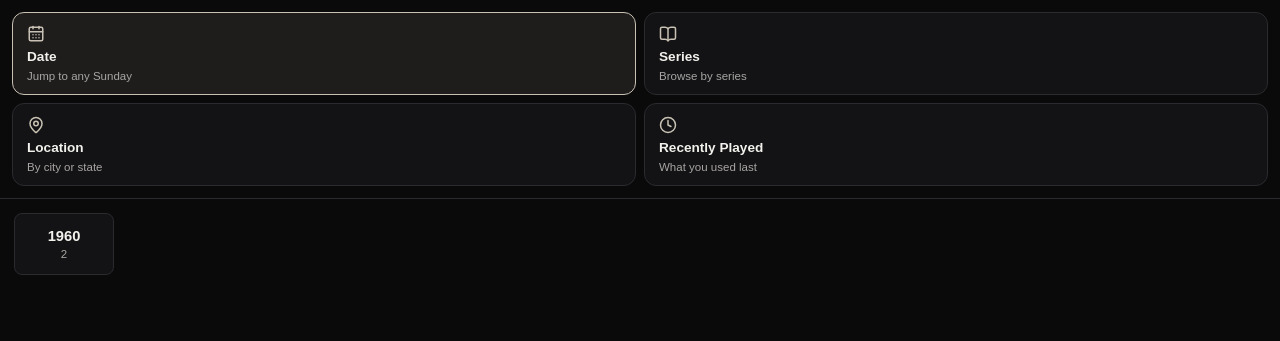
Test: BrowsePanel › drills into a series to show sermon list
Click the button "Series Browse by series" at (679, 56), box x1=644 y1=12 x2=1268 y2=95
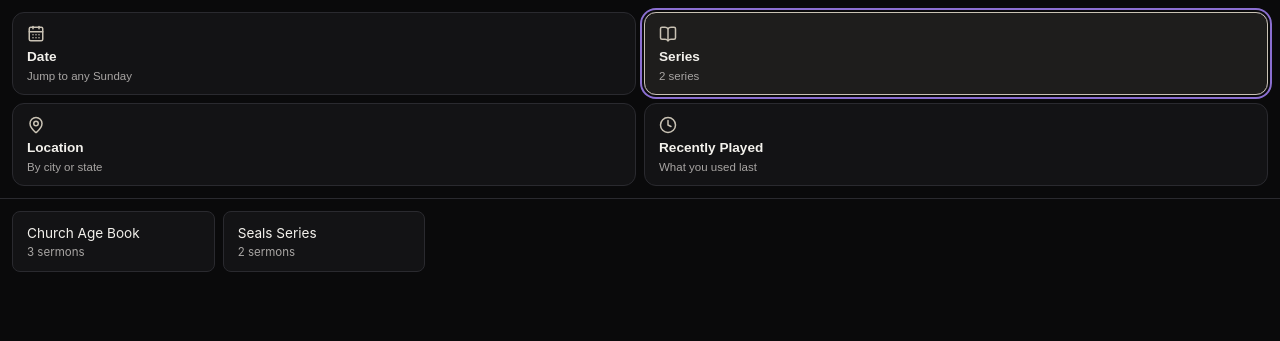
Check: the text "Church Age Book" is shown
Click the text "Church Age Book" at (83, 233), box x1=27 y1=225 x2=140 y2=241
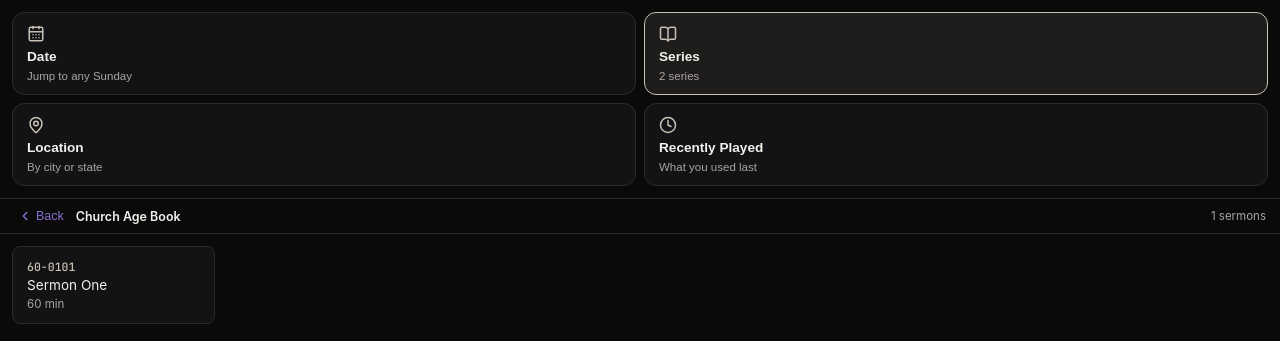
Check: the text "Sermon One" is shown, box x1=27 y1=277 x2=107 y2=293
